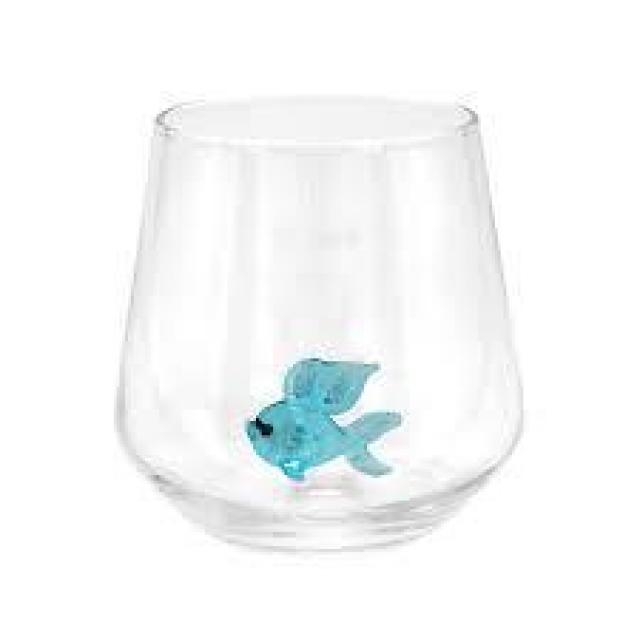non-organic waste: (107, 92, 533, 564)
